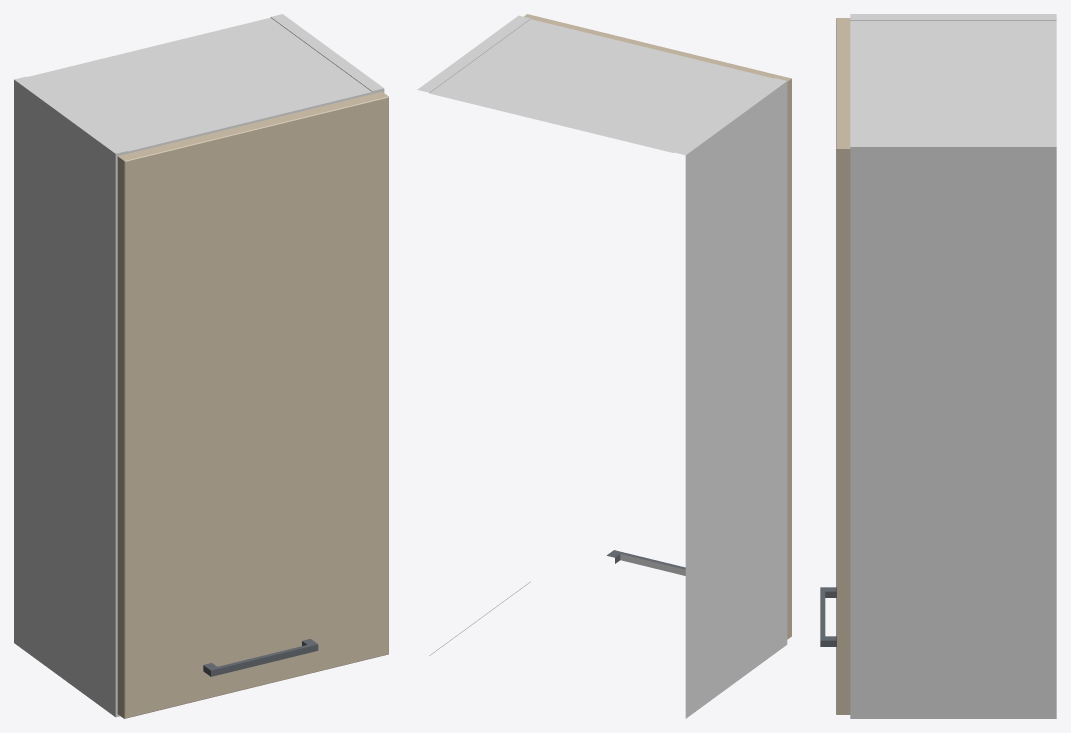
Rendered from gornji.glb.
3 views of the same model, side by side, from view 1: azimuth 30°, elevation 25°; view 2: azimuth 150°, elevation 25°; view 3: azimuth 270°, elevation 25° (orthographic).
Parts seen in each view (by area): view 1: Group2; view 2: Group2; view 3: Group2.
Boxes of the visible parts, <box> form: Group2: <box>14,14,388,718</box>; Group2: <box>417,14,791,718</box>; Group2: <box>820,14,1056,718</box>.
Bounding box in the file's own units: 400 × 802 × 300.
